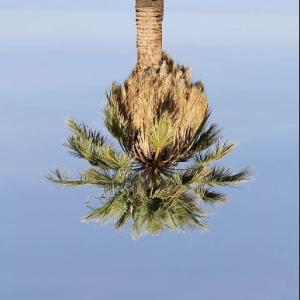palm tree: (40, 0, 257, 240)
